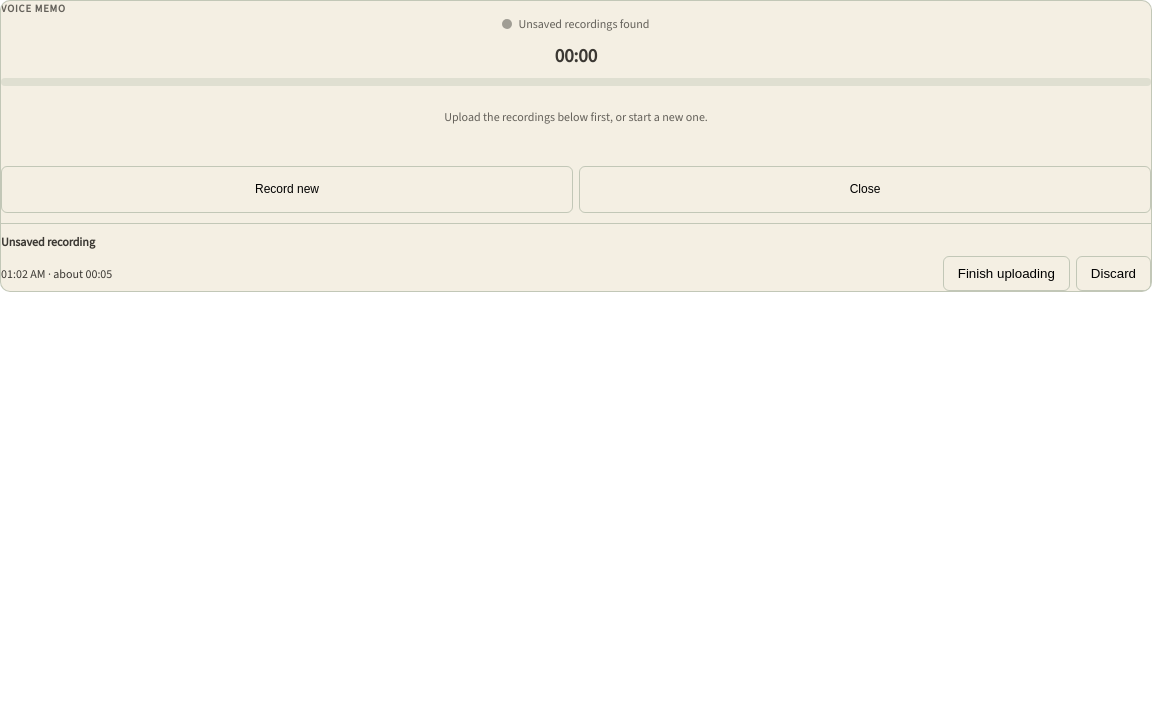
Test case: MobileVoiceRecorder › the live recording is never listed (or swept) as recoverable — only the earlier session is offered
Click the button "Record new".
click(287, 190)  # box [1,166,573,213]
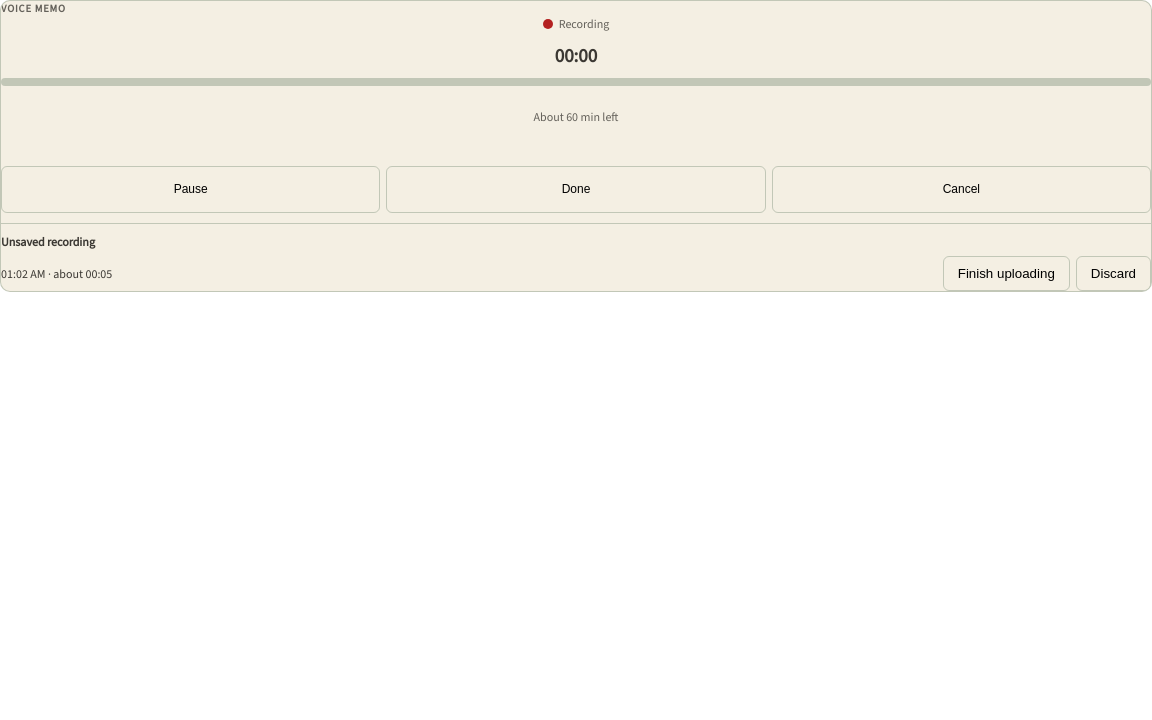
Check: the button "Pause" is shown, box [1,166,380,213]
